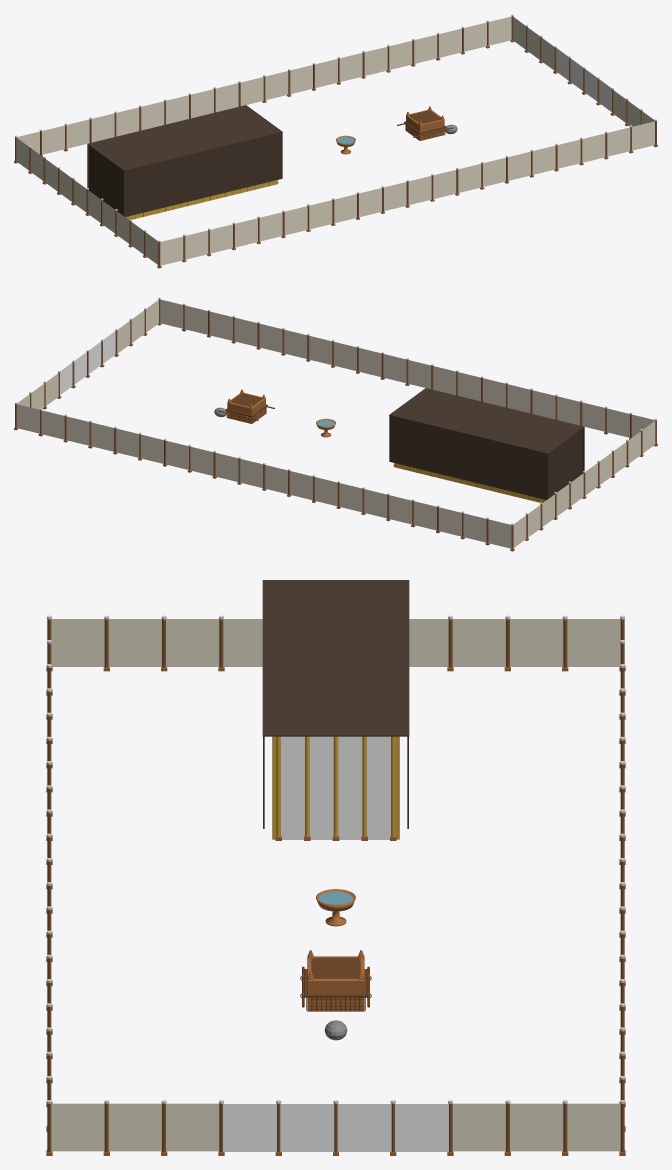
The model's file is courtyard.glb.
3 views of the same model, one above another, from view 1: azimuth 30°, elevation 25°; view 2: azimuth 150°, elevation 25°; view 3: azimuth 270°, elevation 25° (orthographic). The views are drawn at different scales.
Visible parts, largest first — view 1: fence_linen, tent_roof, fence_posts, gate_screen, altar, tent_walls; view 2: fence_linen, tent_roof, fence_posts, gate_screen, altar, tent_walls; view 3: fence_linen, tent_roof, gate_screen, tent_door_screen, fence_posts, altar, tent_door_posts, tent_walls.
Boxes of the visible parts, x1,y1,x2,y2 form: fence_linen: (16,16,654,265); tent_roof: (87,105,282,216); fence_posts: (14,14,657,268); gate_screen: (556,48,611,111); altar: (397,106,453,140); tent_walls: (125,180,277,219); fence_linen: (17,299,655,548); tent_roof: (389,388,584,499); fence_posts: (14,297,657,551); gate_screen: (60,331,115,394); altar: (218,389,274,423); tent_walls: (394,463,546,502); fence_linen: (51,619,620,1151); tent_roof: (262,580,409,828); gate_screen: (223,1104,448,1151); tent_door_screen: (281,736,390,839); fence_posts: (46,615,625,1155); altar: (300,950,371,1011); tent_door_posts: (275,736,396,840); tent_walls: (272,736,399,839).
Size of the model in its own units: 101 by 11.68 by 50.55.
